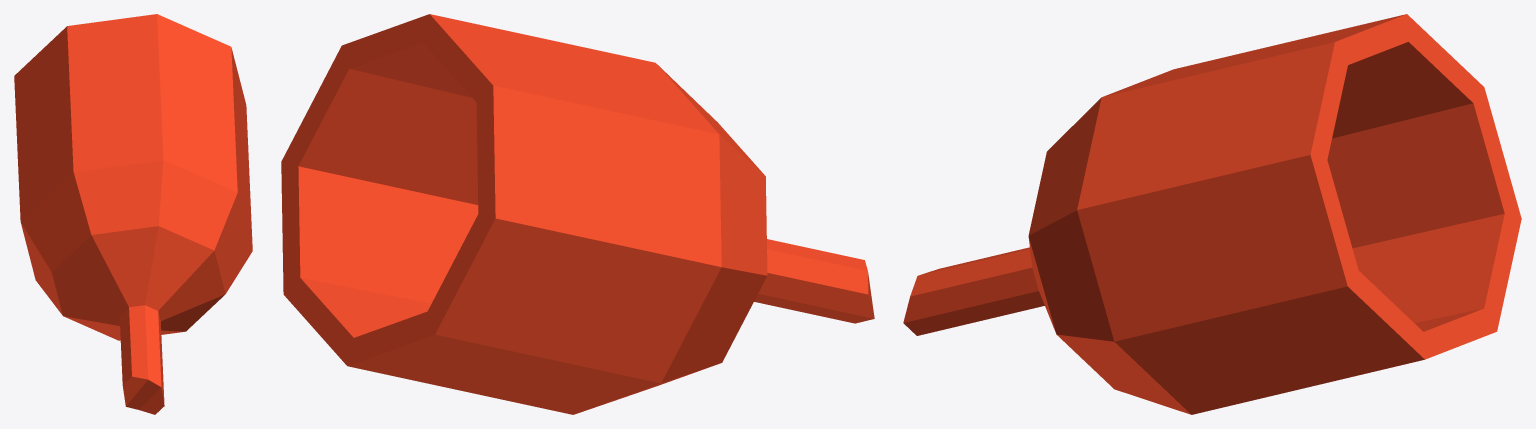
The model's file is SM_Vine_Glass_Broken_B_City.fbx.
The picture shows the model from 3 angles, left to right: view 1: azimuth 30°, elevation 25°; view 2: azimuth 150°, elevation 25°; view 3: azimuth 270°, elevation 25°; orthographic projection. The views are drawn at different scales.
Visible parts, largest first — view 1: SM_Vine_Glass_Broken_B_City; view 2: SM_Vine_Glass_Broken_B_City; view 3: SM_Vine_Glass_Broken_B_City.
Part boxes in pixels (x1,y1,x2,y2): SM_Vine_Glass_Broken_B_City: (14, 14, 252, 414); SM_Vine_Glass_Broken_B_City: (281, 14, 874, 414); SM_Vine_Glass_Broken_B_City: (903, 14, 1521, 414).
Bounding box in the file's own units: 0.1207 × 0.1183 × 0.1668.
